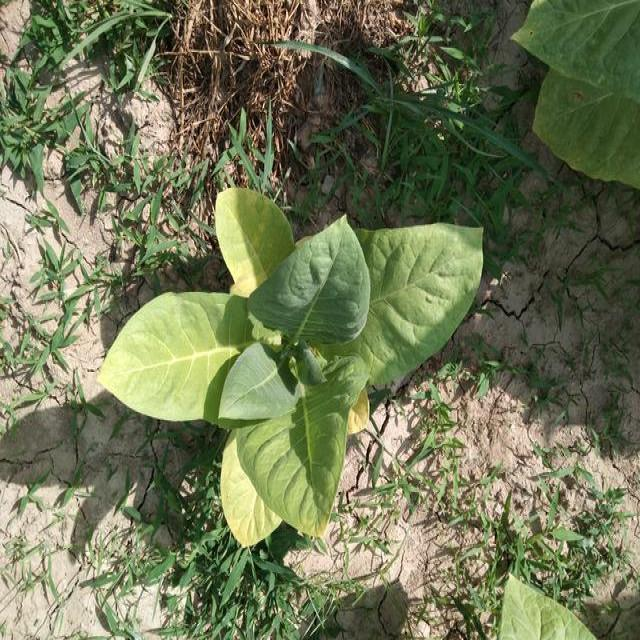crop: (92, 174, 490, 556)
